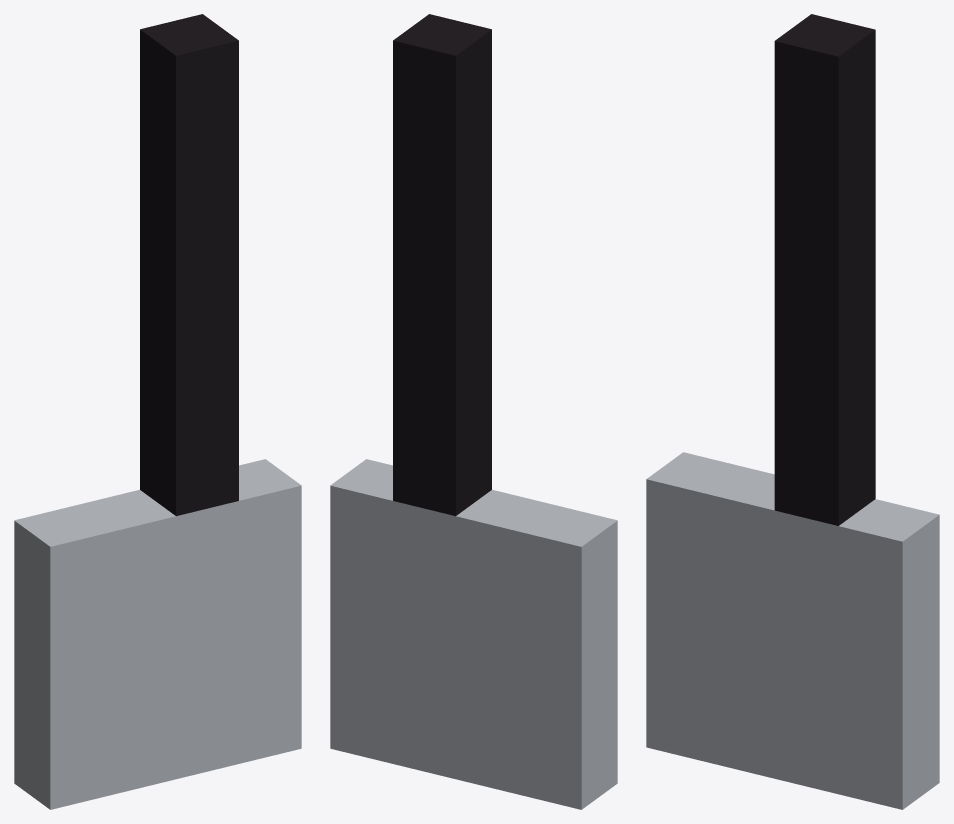
The model's file is spatula.glb.
The picture shows the model from 3 angles, left to right: view 1: azimuth 30°, elevation 25°; view 2: azimuth 150°, elevation 25°; view 3: azimuth 330°, elevation 25°; orthographic projection.
Parts seen in each view (by area): view 1: spatula; view 2: spatula; view 3: spatula.
Boxes of the visible parts, left/top/right/bottom form: spatula: left=14, top=14, right=301, bottom=809; spatula: left=330, top=14, right=617, bottom=809; spatula: left=646, top=14, right=939, bottom=809.
Size of the model in its own units: 0.2 by 0.55 by 0.05.
1 material, 1 textured.
